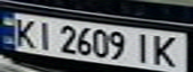0: (90, 27, 112, 60)
2: (54, 21, 78, 55)
6: (75, 25, 93, 56)
9: (106, 28, 130, 61)
I: (130, 30, 157, 64), (33, 19, 57, 52)
K: (148, 33, 187, 69), (9, 16, 42, 48)
